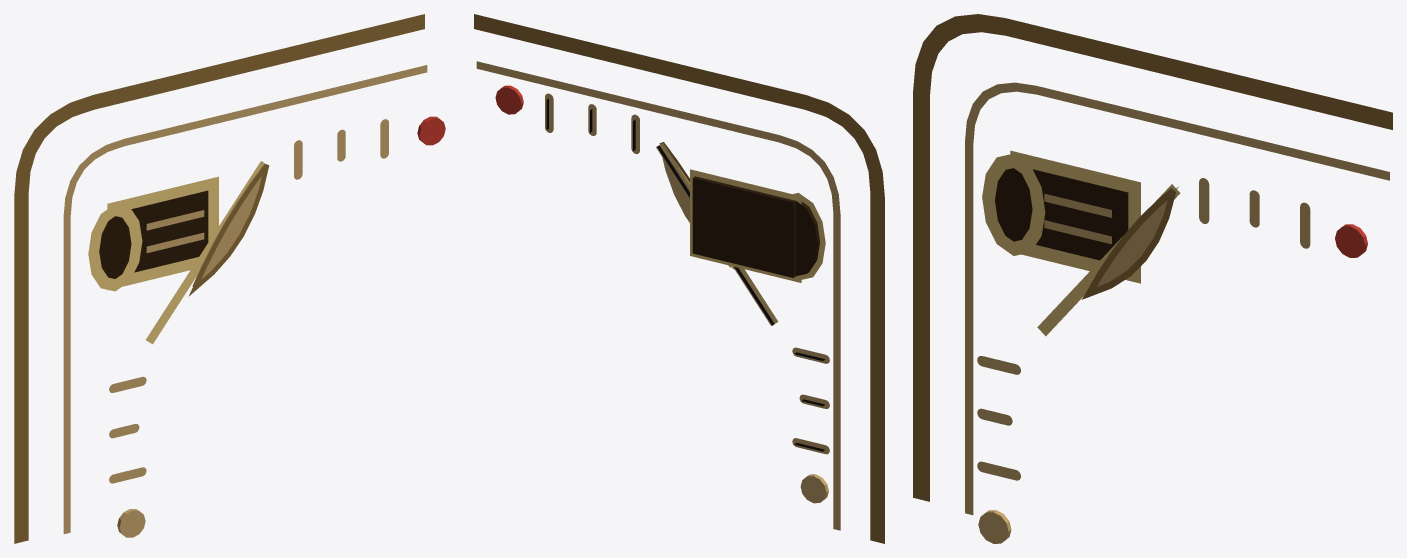
Rendered from ui-rezhim-khronista.glb.
3 views of the same model, side by side, from view 1: azimuth 30°, elevation 25°; view 2: azimuth 150°, elevation 25°; view 3: azimuth 330°, elevation 25° (orthographic). The views are drawn at different scales.
Visible parts, largest first — view 1: ui-rezhim-khronista; view 2: ui-rezhim-khronista; view 3: ui-rezhim-khronista.
Part boxes in pixels (<box>): ui-rezhim-khronista: <box>14,14,445,543</box>; ui-rezhim-khronista: <box>474,14,884,543</box>; ui-rezhim-khronista: <box>913,14,1392,543</box>.
Size of the model in its own units: 0.2672 by 0.2672 by 0.028.
